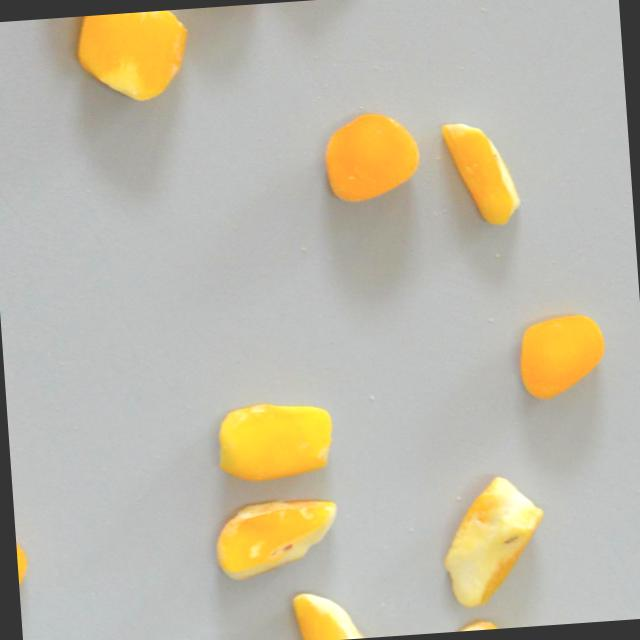dañado: (307, 93, 431, 211), (498, 295, 622, 412), (12, 505, 36, 615), (439, 613, 534, 632)
estandar: (212, 398, 337, 487), (439, 116, 525, 232)
pelicula: (75, 8, 198, 105), (291, 588, 395, 640)
punto_negro: (435, 471, 550, 612), (205, 495, 346, 584)
